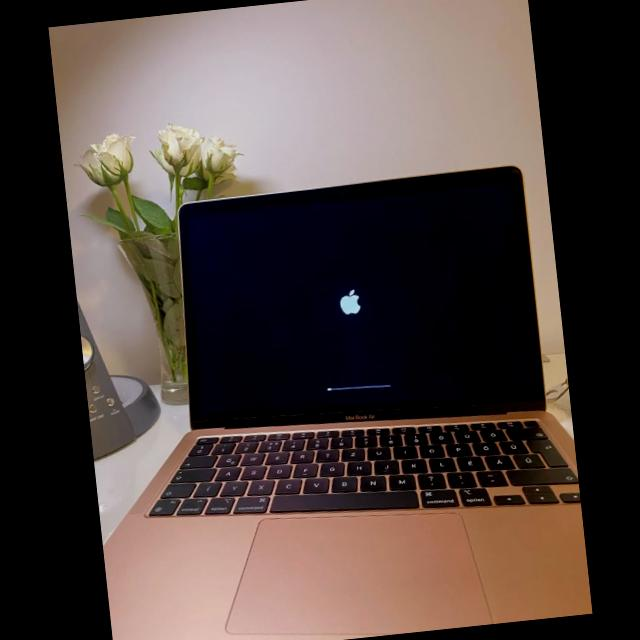laptop: (103, 165, 592, 640)
